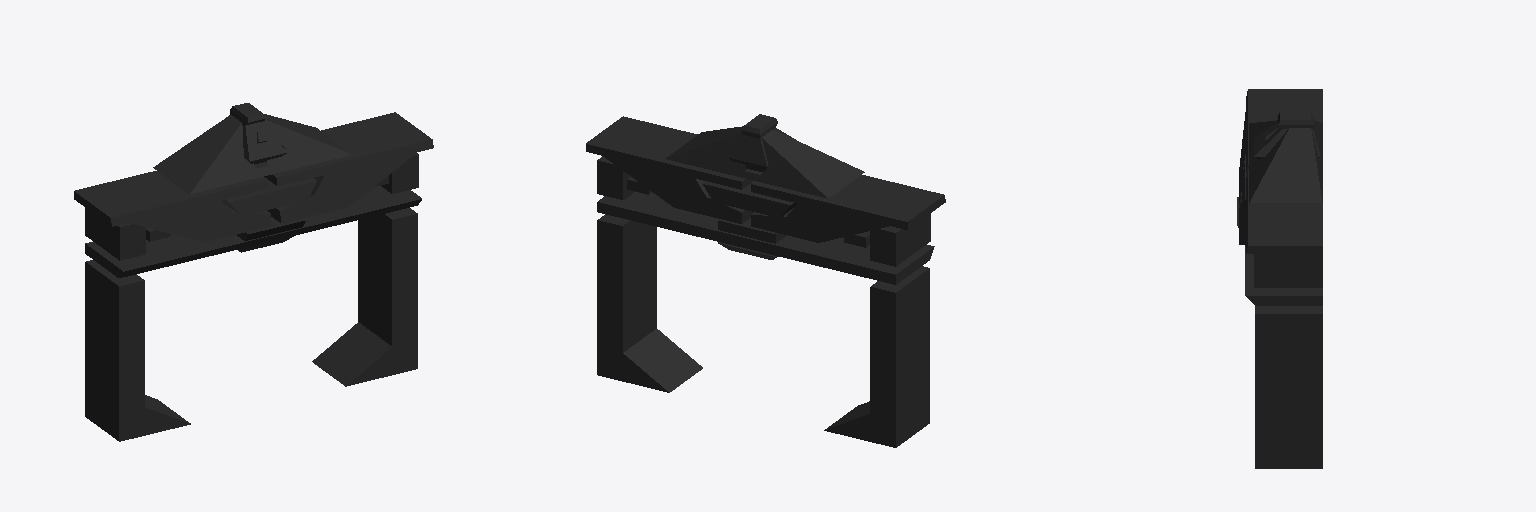
The model's file is recognizer_noGlow_half.obj.
The picture shows the model from 3 angles: view 1: azimuth 30°, elevation 25°; view 2: azimuth 150°, elevation 25°; view 3: azimuth 270°, elevation 25°; orthographic projection.
Parts seen in each view (by area): view 1: recog; view 2: recog; view 3: recog.
Part boxes in pixels (x1,y1,x2,y2): recog: (74, 103, 433, 441); recog: (586, 114, 945, 447); recog: (1237, 89, 1322, 468).
Size of the model in its own units: 12 by 9.99 by 2.77.